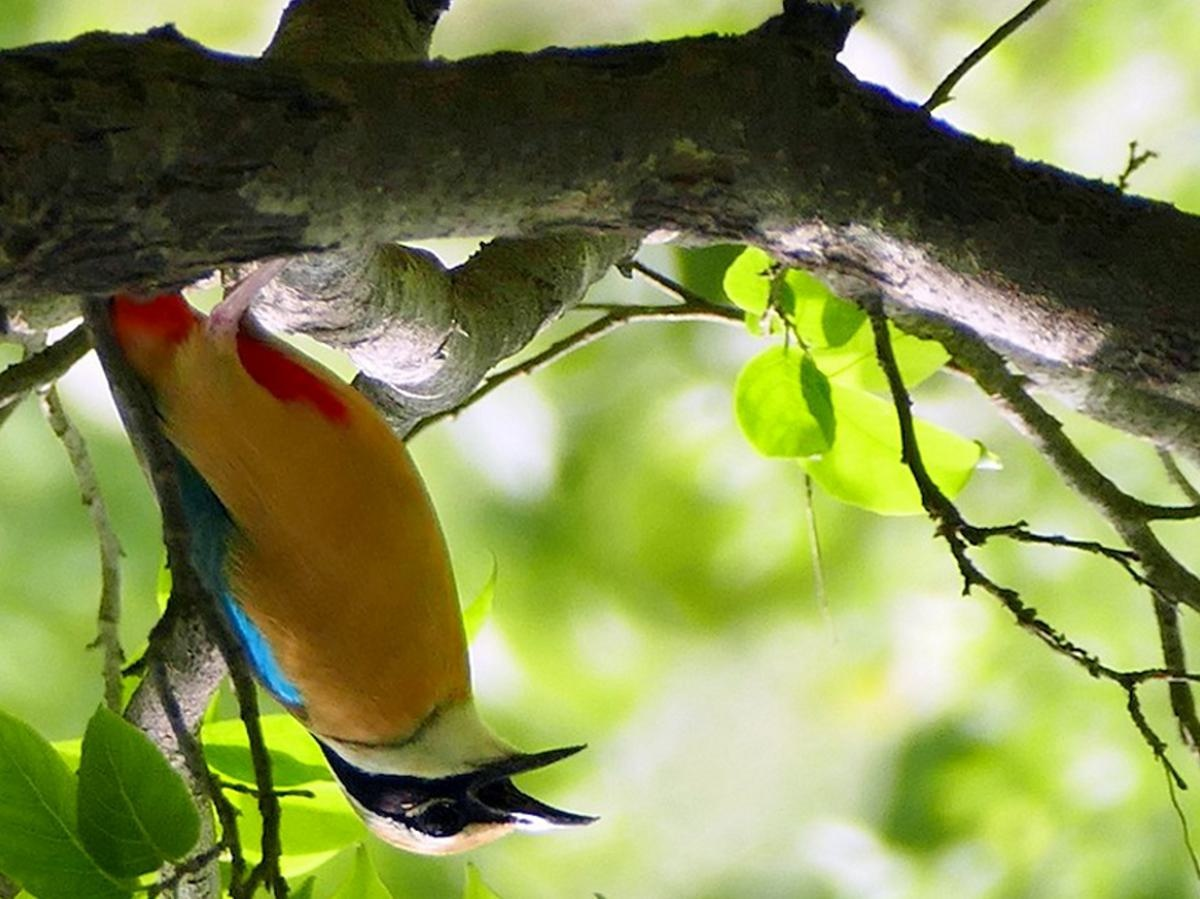pitta: (1, 220, 648, 852)
